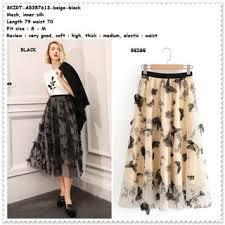skirt: (120, 67, 216, 214), (26, 94, 91, 181)
